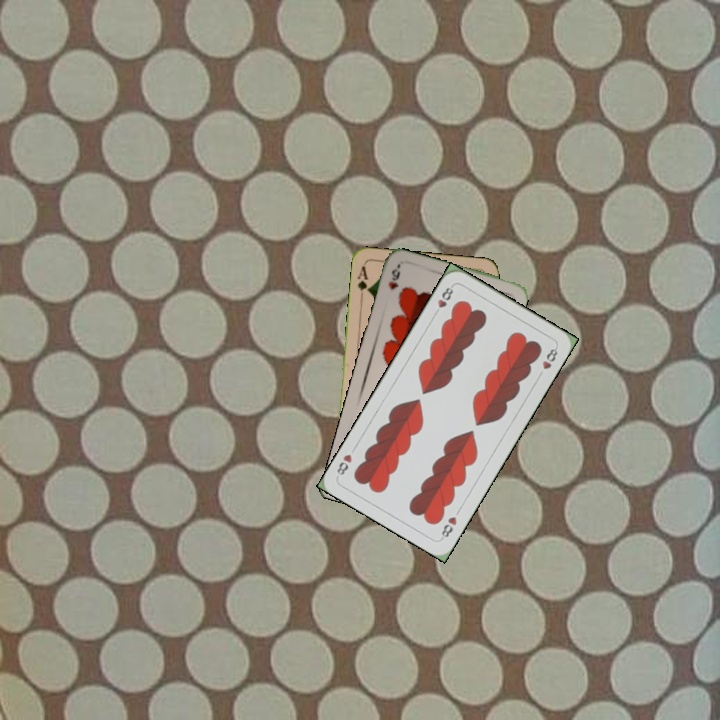GA: (353, 262, 372, 302)
H8: (430, 281, 456, 318), (437, 512, 460, 542)
H9: (384, 263, 403, 292)
